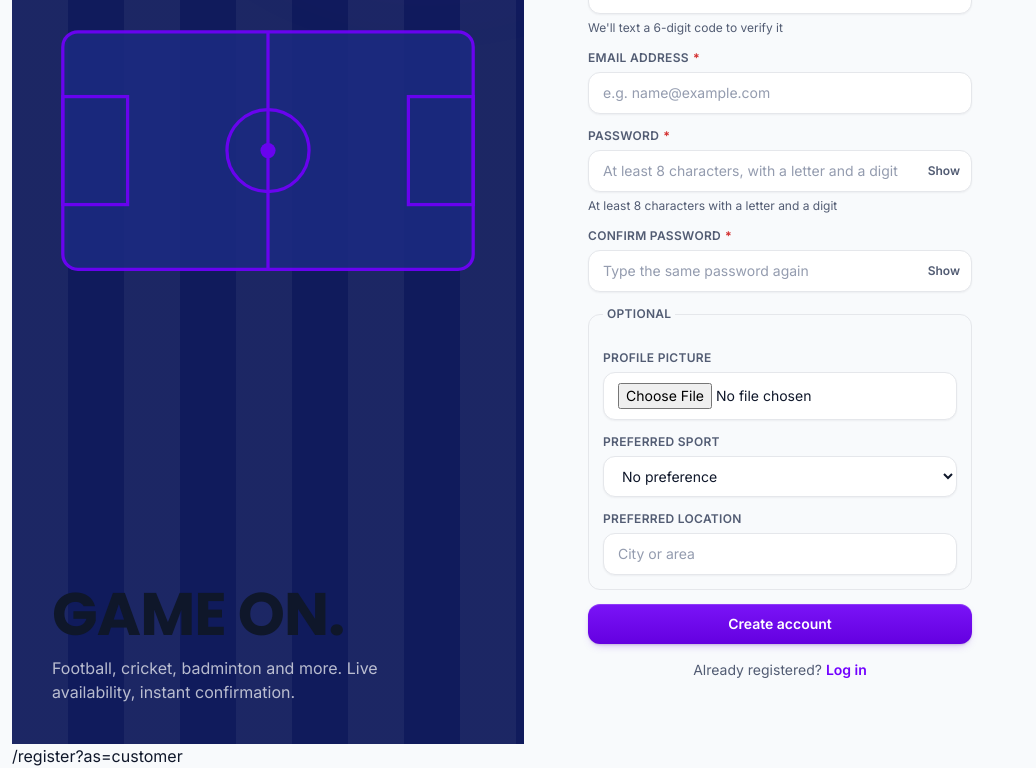
Test case: customer signup › shows a field-level message for every missing or invalid mandatory field and does not call the API
The width and height of the screenshot is (1036, 768).
(page scrolled)
Click the button "Create account" at (780, 624), box [588, 604, 972, 644]
(page scrolled)
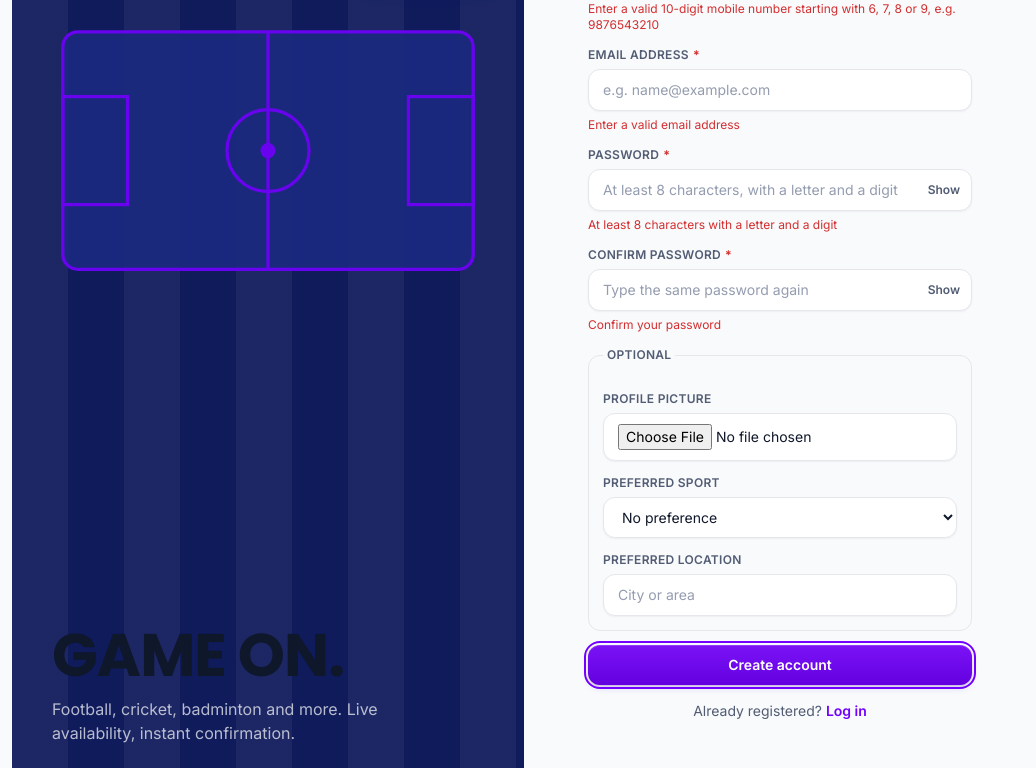
Now the text "Enter a valid 10-digit mobile number starting with 6, 7, 8 or 9, e.g. 9876543210" is shown, box [588, 1, 972, 33]
Now the text "Enter a valid email address" is shown, box [588, 117, 740, 132]
Now the text "Confirm your password" is shown, box [588, 317, 721, 332]
